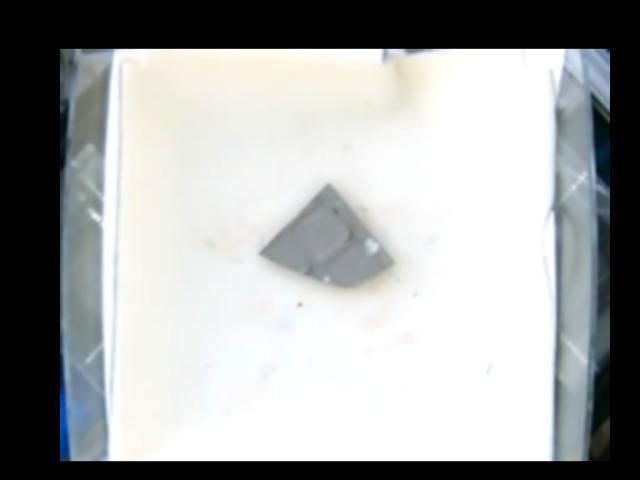China: (258, 184, 394, 285)
